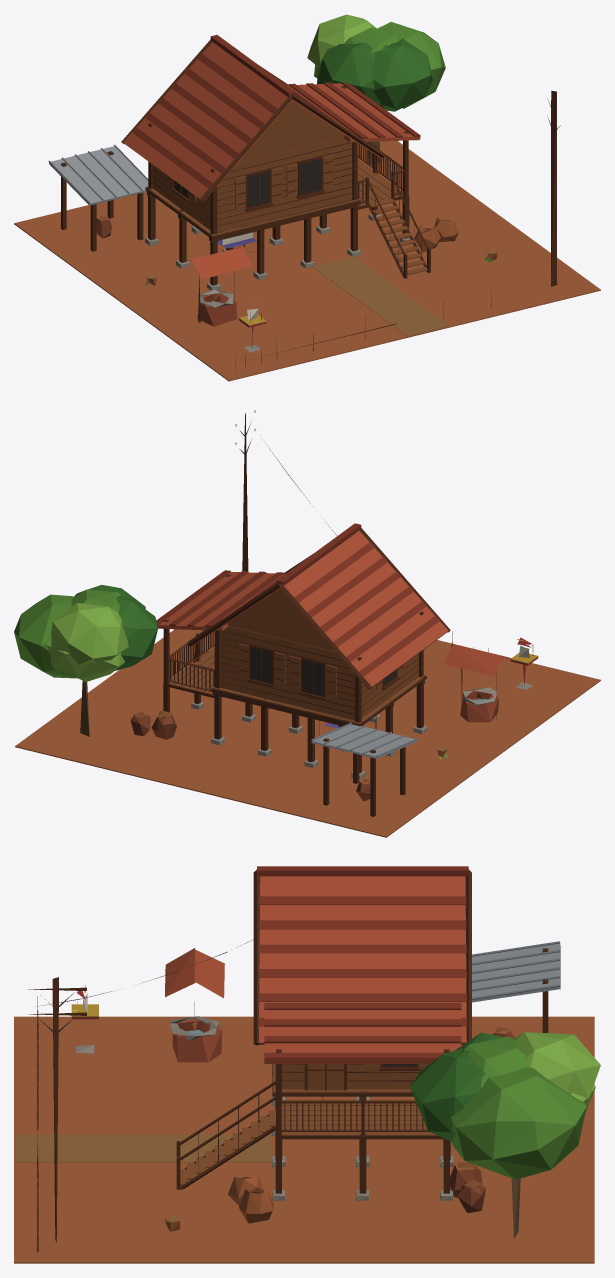
The model's file is home_1.glb.
The picture shows the model from 3 angles, top to bottom: view 1: azimuth 30°, elevation 25°; view 2: azimuth 150°, elevation 25°; view 3: azimuth 270°, elevation 25°; orthographic projection. The views are drawn at different scales.
Visible parts, largest first — view 1: body, windows; view 2: body, windows; view 3: body.
Boxes of the visible parts, x1,y1,x2,y2 form: body: (14,14,600,381); windows: (175,159,321,206); body: (14,410,600,837); windows: (251,647,396,695); body: (14,866,600,1263).
Bounding box in the file's own units: 16.85 × 8.3 × 16.07.
